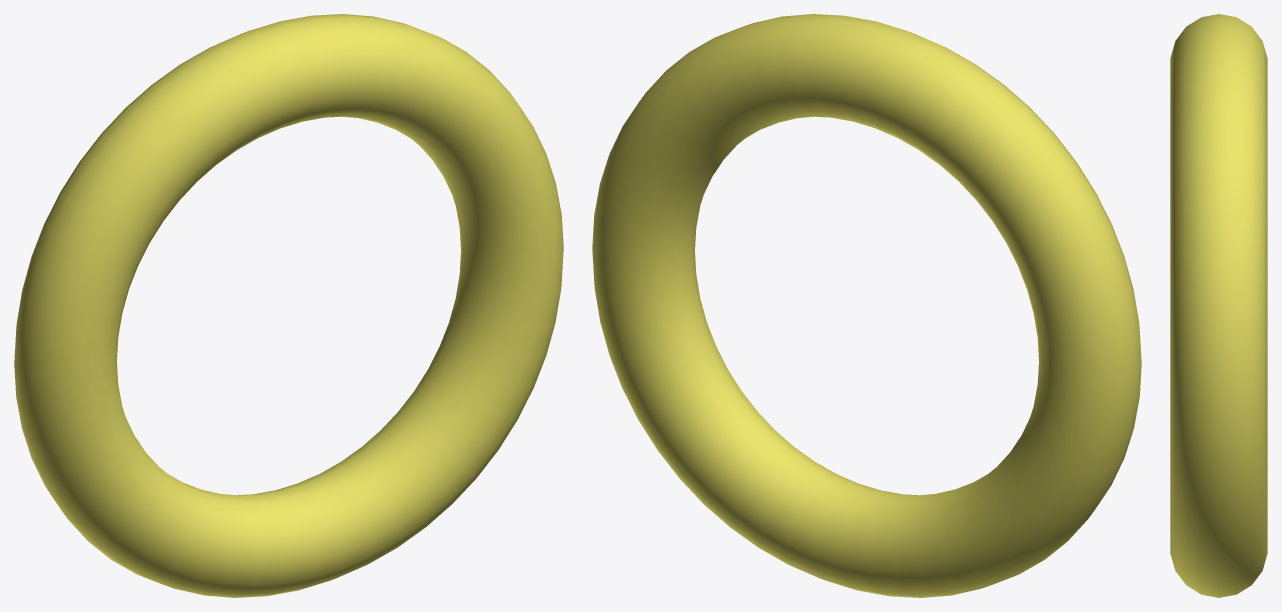
The model's file is ring.fbx.
The picture shows the model from 3 angles, left to right: view 1: azimuth 30°, elevation 25°; view 2: azimuth 150°, elevation 25°; view 3: azimuth 270°, elevation 25°; orthographic projection. The views are drawn at different scales.
Visible parts, largest first — view 1: ring; view 2: ring; view 3: ring.
Part boxes in pixels (x1,y1,x2,y2): ring: [14, 14, 563, 597]; ring: [592, 14, 1141, 597]; ring: [1170, 14, 1267, 597].
Size of the model in its own units: 240 by 240 by 39.83.
